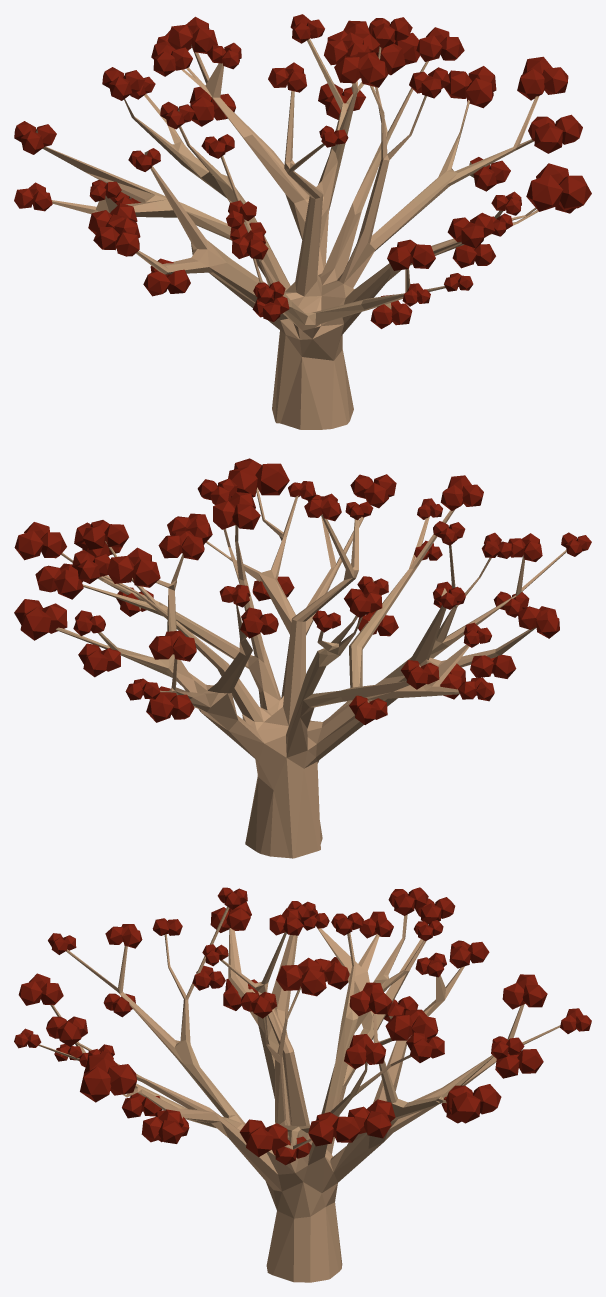
File: tree D.fbx
The picture shows the model from 3 angles, top to bottom: view 1: azimuth 30°, elevation 25°; view 2: azimuth 150°, elevation 25°; view 3: azimuth 270°, elevation 25°; orthographic projection. The views are drawn at different scales.
Parts seen in each view (by area): view 1: Tree.D; view 2: Tree.D; view 3: Tree.D.
Boxes of the visible parts, x1,y1,x2,y2 form: Tree.D: [14, 14, 591, 429]; Tree.D: [14, 458, 591, 858]; Tree.D: [14, 887, 591, 1282].
Size of the model in its own units: 2184 by 1438 by 2228.
